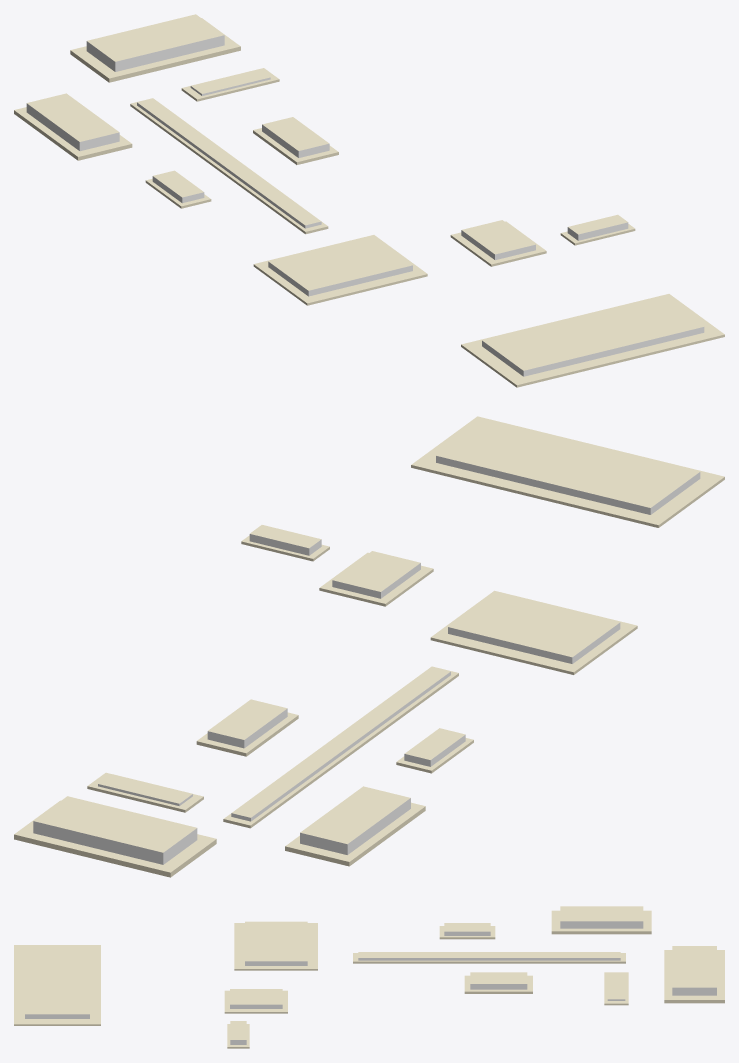
Rendered from CeilingBlocks03_v2.FBX.
3 renders of one model, top to bottom at view 1: azimuth 30°, elevation 25°; view 2: azimuth 150°, elevation 25°; view 3: azimuth 270°, elevation 25°, orthographic. The views are drawn at different scales.
Visible parts, largest first — view 1: CeilingBlock001, CeilingBlock002, CeilingBlock008, CeilingBlock004, CeilingBlock006, CeilingBlock003, CeilingBlock007, CeilingBlock009, CeilingBlock005, CeilingBlock010; view 2: CeilingBlock001, CeilingBlock002, CeilingBlock008, CeilingBlock004, CeilingBlock006, CeilingBlock003, CeilingBlock007, CeilingBlock009, CeilingBlock005, CeilingBlock010; view 3: CeilingBlock001, CeilingBlock002, CeilingBlock008, CeilingBlock004, CeilingBlock006, CeilingBlock003, CeilingBlock007, CeilingBlock005, CeilingBlock009, CeilingBlock010.
Part boxes in pixels (x1,y1,x2,y2): CeilingBlock001: (461,294,724,387); CeilingBlock002: (253,235,427,305); CeilingBlock008: (70,14,240,82); CeilingBlock004: (130,98,328,234); CeilingBlock006: (14,93,132,160); CeilingBlock003: (450,220,546,266); CeilingBlock007: (253,117,338,164); CeilingBlock009: (181,68,279,101); CeilingBlock005: (145,170,211,208); CeilingBlock010: (560,214,635,245); CeilingBlock001: (411,416,724,527); CeilingBlock002: (430,590,637,674); CeilingBlock008: (14,796,216,877); CeilingBlock004: (223,666,458,828); CeilingBlock006: (285,786,425,866); CeilingBlock003: (319,551,433,606); CeilingBlock007: (196,699,298,756); CeilingBlock009: (87,772,203,812); CeilingBlock005: (396,728,473,773); CeilingBlock010: (241,525,329,561); CeilingBlock001: (14,945,100,1025); CeilingBlock002: (234,921,317,970); CeilingBlock008: (664,946,724,1003); CeilingBlock004: (353,952,625,963); CeilingBlock006: (551,906,651,934); CeilingBlock003: (224,989,287,1013); CeilingBlock007: (464,972,532,993); CeilingBlock005: (439,923,495,939); CeilingBlock009: (604,972,628,1005); CeilingBlock010: (227,1021,249,1048).
Size of the model in its own units: 3466 by 178 by 7845.
